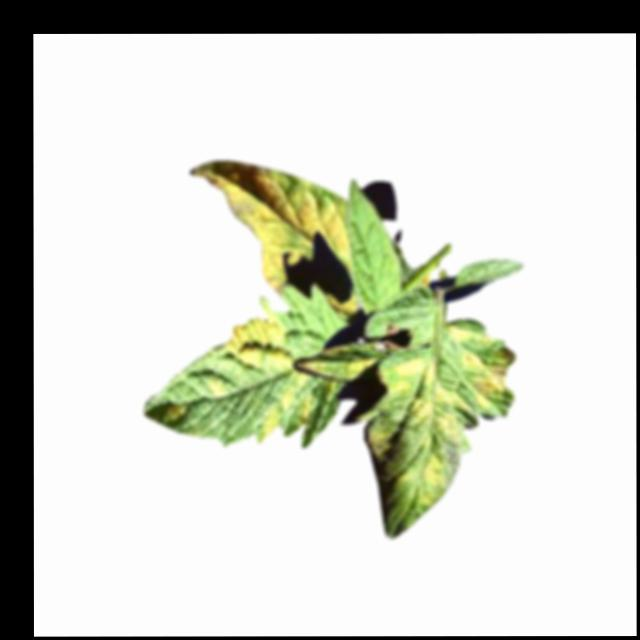Leaf_Mold: (187, 157, 348, 292), (376, 354, 465, 442), (448, 324, 515, 408), (228, 310, 295, 372), (397, 451, 444, 507), (257, 393, 293, 442), (168, 400, 188, 419)
